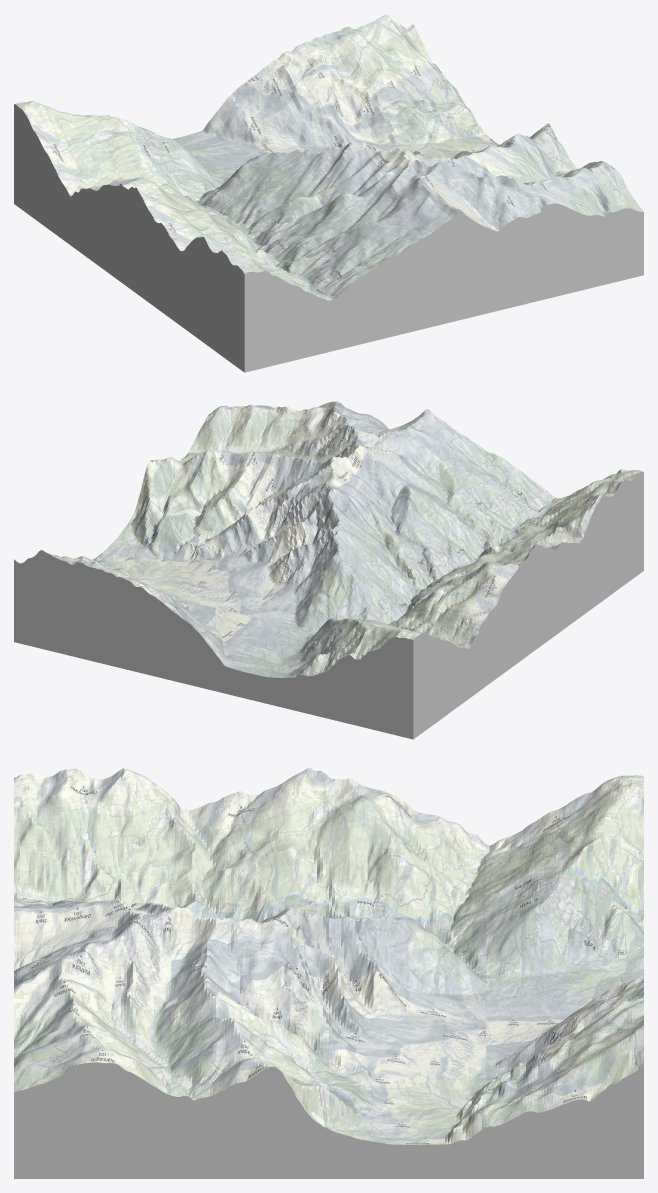
File: montalin.gltf
3 renders of one model, top to bottom at view 1: azimuth 30°, elevation 25°; view 2: azimuth 150°, elevation 25°; view 3: azimuth 270°, elevation 25°, orthographic. The views are drawn at different scales.
Bounding box in the file's own units: 1.34 × 0.377 × 1.34.
